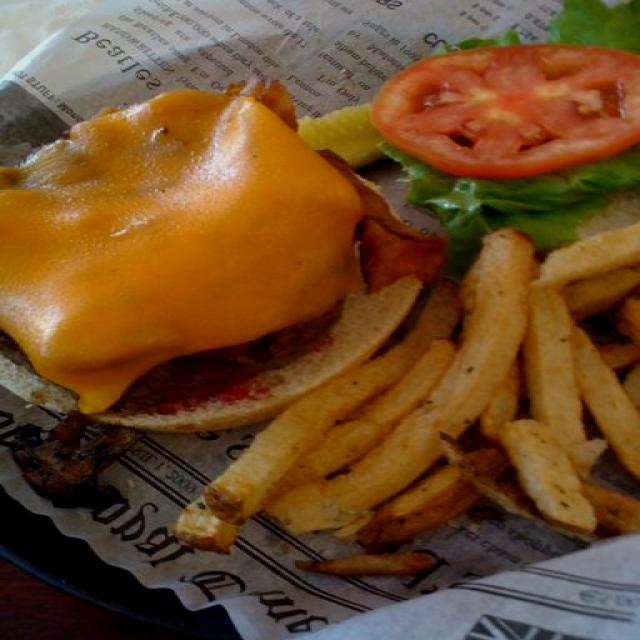burger: (0, 76, 414, 432)
